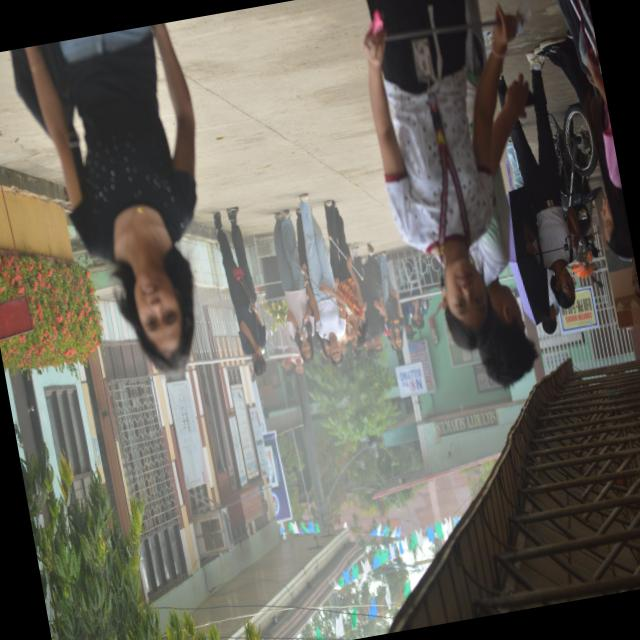person: (25, 24, 195, 371), (363, 0, 514, 349), (469, 74, 537, 386), (556, 0, 633, 258), (510, 51, 579, 307), (213, 207, 265, 374), (299, 193, 345, 366), (324, 200, 366, 347), (273, 210, 313, 363), (351, 244, 384, 353), (378, 251, 403, 348), (540, 269, 556, 334), (278, 357, 293, 378), (289, 355, 303, 376)
